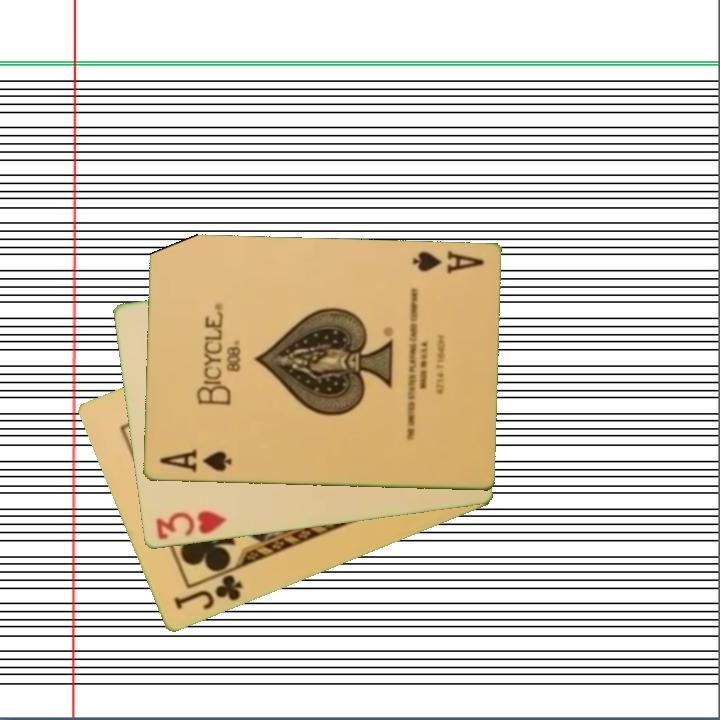3h: (152, 507, 229, 543)
As: (408, 247, 486, 277), (156, 447, 234, 476)
Jc: (170, 571, 245, 613)
